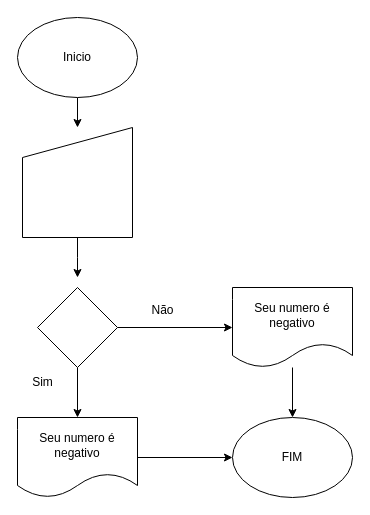
Some shapes in this 370 by 515 pixel diagram are drawn without their labels. The box of each missing label's shape, as (x1, y1, x2, y2) in pixels:
Digite um numero: (22, 126, 132, 238)
n1 > 0: (36, 286, 118, 368)
